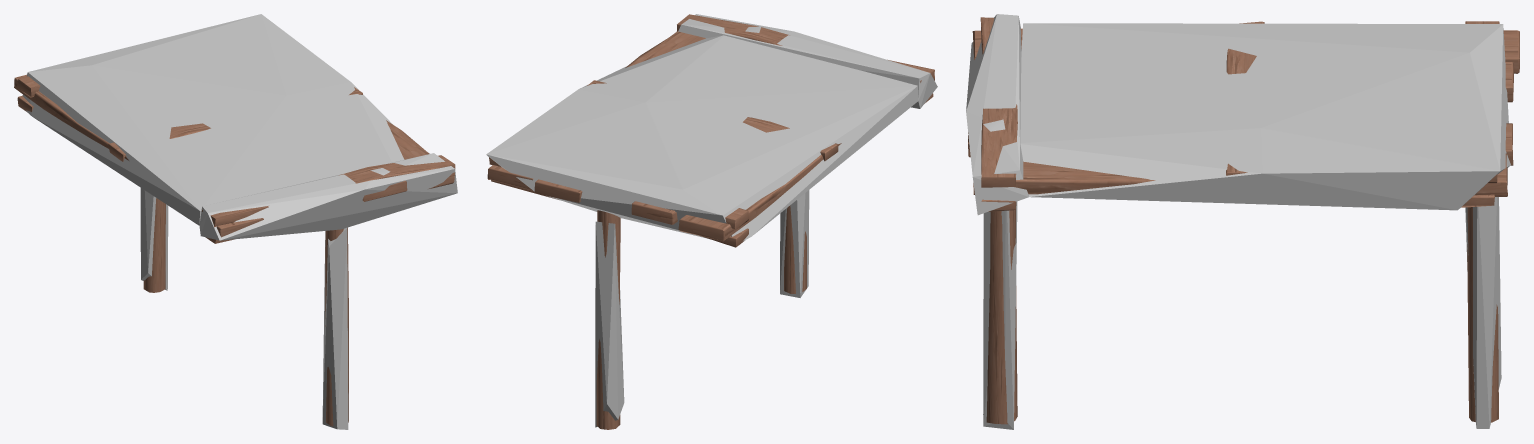
Rendered from SM_WoodenBridge_01.fbx.
3 renders of one model, left to right at view 1: azimuth 30°, elevation 25°; view 2: azimuth 150°, elevation 25°; view 3: azimuth 270°, elevation 25°, orthographic. The views are drawn at different scales.
Visible parts, largest first — view 1: SM_WoodenBridge_01_ConvexHulls, SM_WoodenBridge_01; view 2: SM_WoodenBridge_01_ConvexHulls, SM_WoodenBridge_01; view 3: SM_WoodenBridge_01_ConvexHulls, SM_WoodenBridge_01.
Part boxes in pixels (box(x1,y1,x2,y2)): SM_WoodenBridge_01_ConvexHulls: box(22, 14, 457, 429); SM_WoodenBridge_01: box(14, 58, 455, 426); SM_WoodenBridge_01_ConvexHulls: box(486, 14, 937, 427); SM_WoodenBridge_01: box(487, 14, 934, 429); SM_WoodenBridge_01_ConvexHulls: box(966, 14, 1510, 429); SM_WoodenBridge_01: box(968, 17, 1519, 424).
Size of the model in its own units: 518 by 768 by 501.
4 materials, 2 textured.
